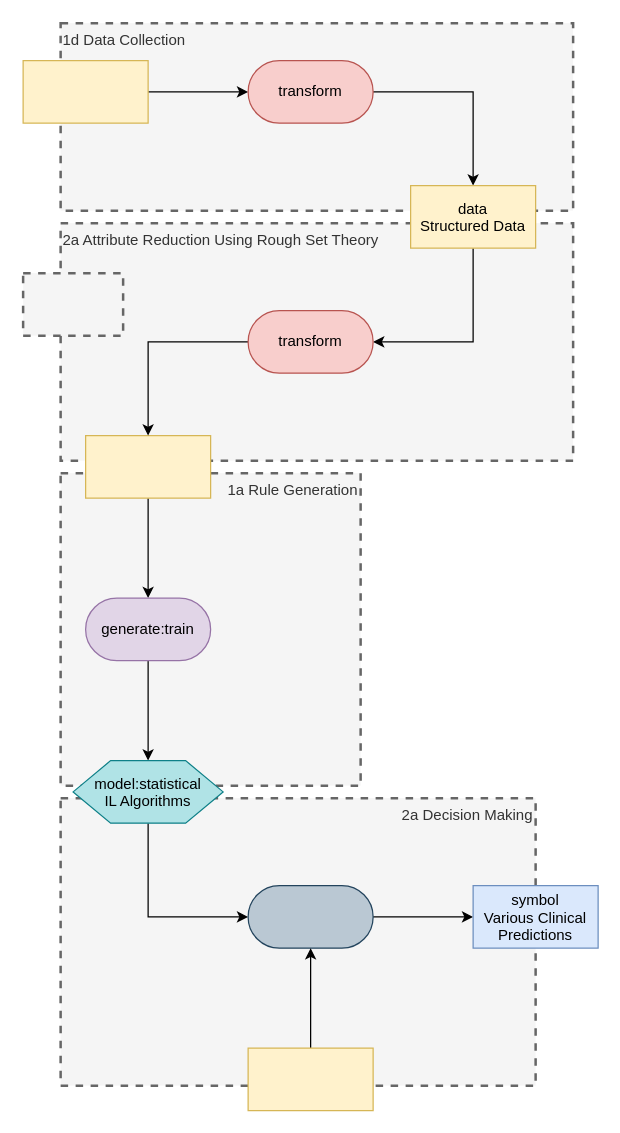
The diagram is 620 pixels wide and 1133 high, and some of its shapes have lost their labels. Here are the shapes that lost their labels. From the top down, the centre of each, then its label:
point 85,91: data Raw Clinical Data
point 72,303: replaced infer:deduce with transform
point 147,466: data Reduced Dataset
point 310,916: infer:deduce
point 310,1079: data Patient Data
